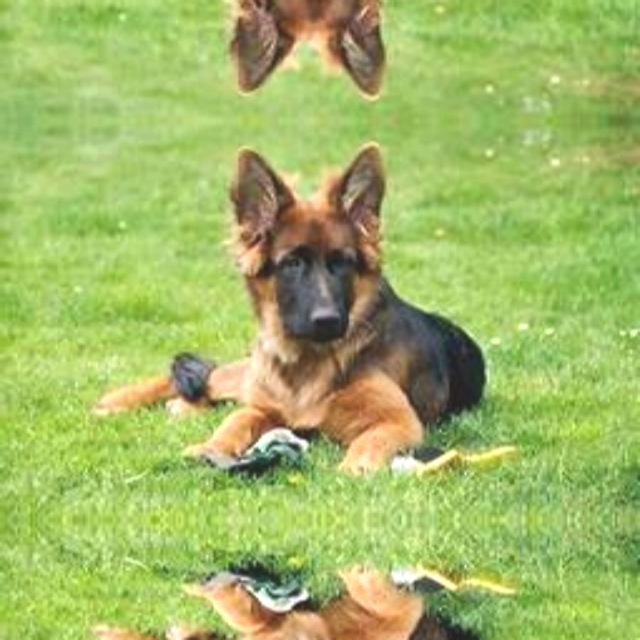dog: (82, 133, 514, 519), (82, 519, 514, 640), (82, 0, 514, 107)
